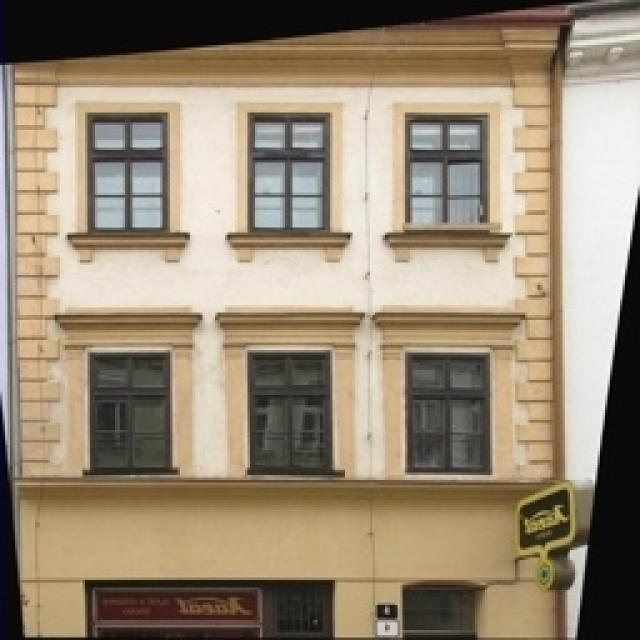Window: (410, 354, 488, 468), (95, 354, 170, 468), (252, 115, 328, 227), (255, 352, 328, 468), (407, 115, 485, 223), (92, 118, 166, 228), (405, 588, 475, 630)
